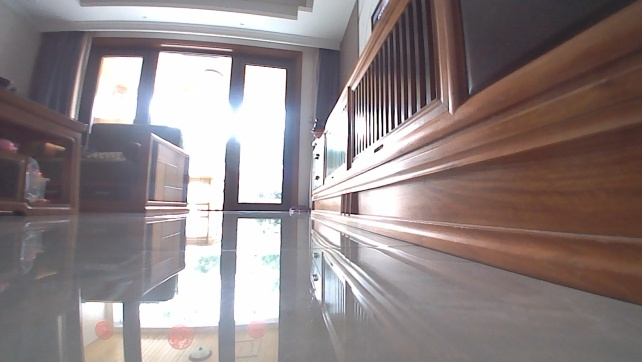TV_stand: (305, 0, 641, 311)
sofa: (78, 118, 191, 215)
tea_table1: (0, 81, 88, 219)
